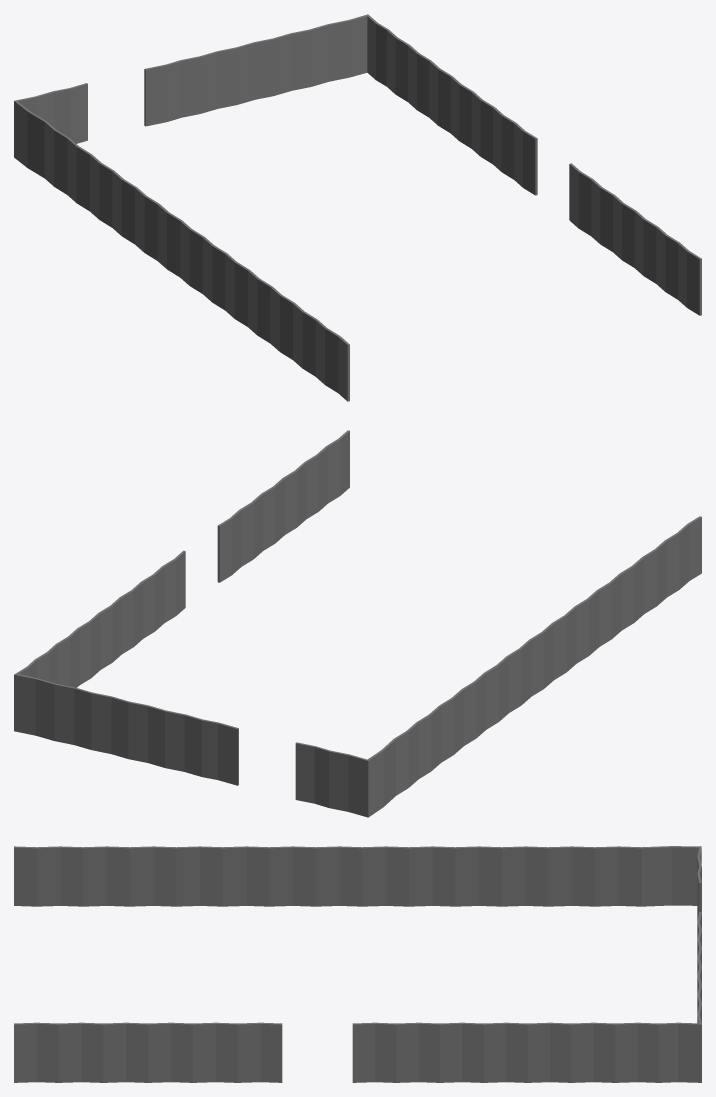
File: SmallMetalWall1.fbx
3 views of the same model, one above another, from view 1: azimuth 30°, elevation 25°; view 2: azimuth 150°, elevation 25°; view 3: azimuth 270°, elevation 25° (orthographic). The views are drawn at different scales.
Parts seen in each view (by area): view 1: SmallMetalWall.000_LOD0; view 2: SmallMetalWall.000_LOD0; view 3: SmallMetalWall.000_LOD0.
Part boxes in pixels (x1,y1,x2,y2): SmallMetalWall.000_LOD0: [14, 14, 701, 401]; SmallMetalWall.000_LOD0: [14, 430, 701, 817]; SmallMetalWall.000_LOD0: [14, 846, 701, 1082].
Size of what is drawn, in the model's own units: 2863 by 436 by 4663.
Materials: 1 (1 with a texture image).
